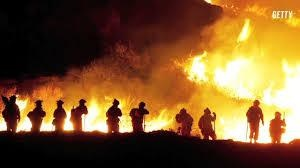fire: (175, 14, 299, 143), (58, 93, 134, 133), (235, 17, 252, 45)
